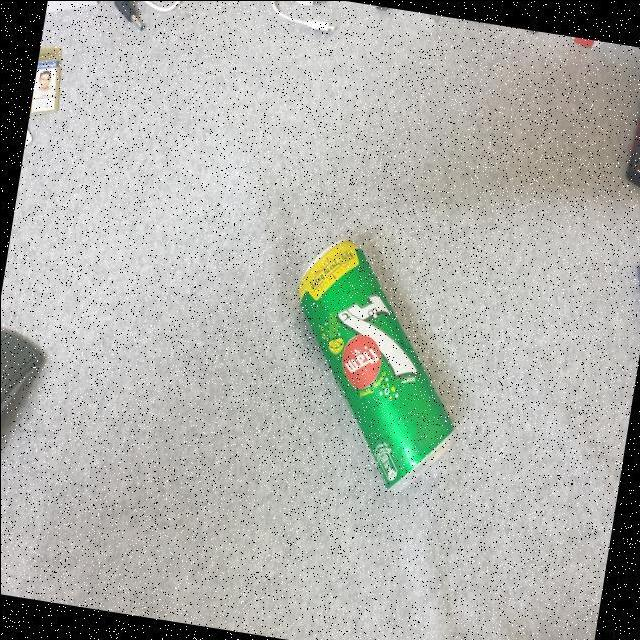can: (262, 216, 492, 506)
